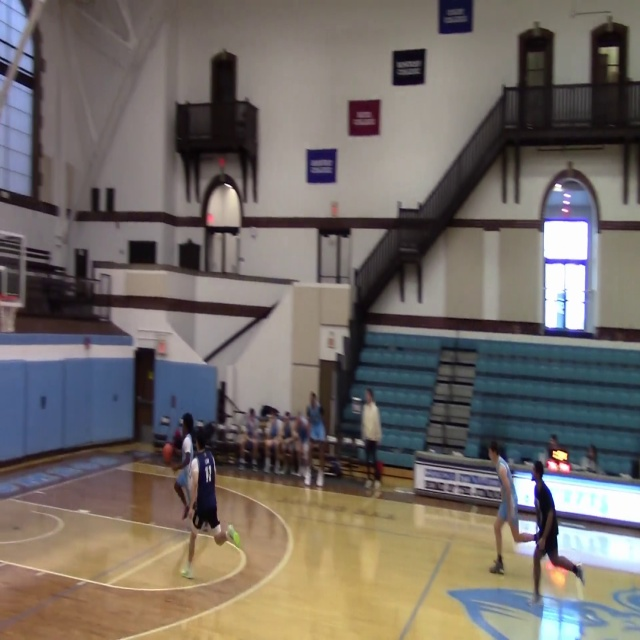Basketball: (545, 561, 566, 586), (162, 443, 174, 463)
